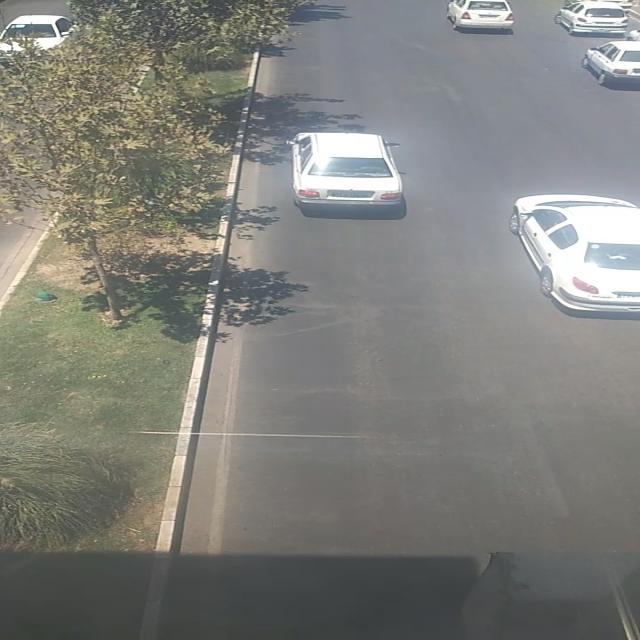car: (509, 194, 640, 316), (280, 131, 408, 212), (3, 13, 77, 61), (576, 39, 640, 85), (555, 1, 632, 35), (448, 1, 515, 34)
